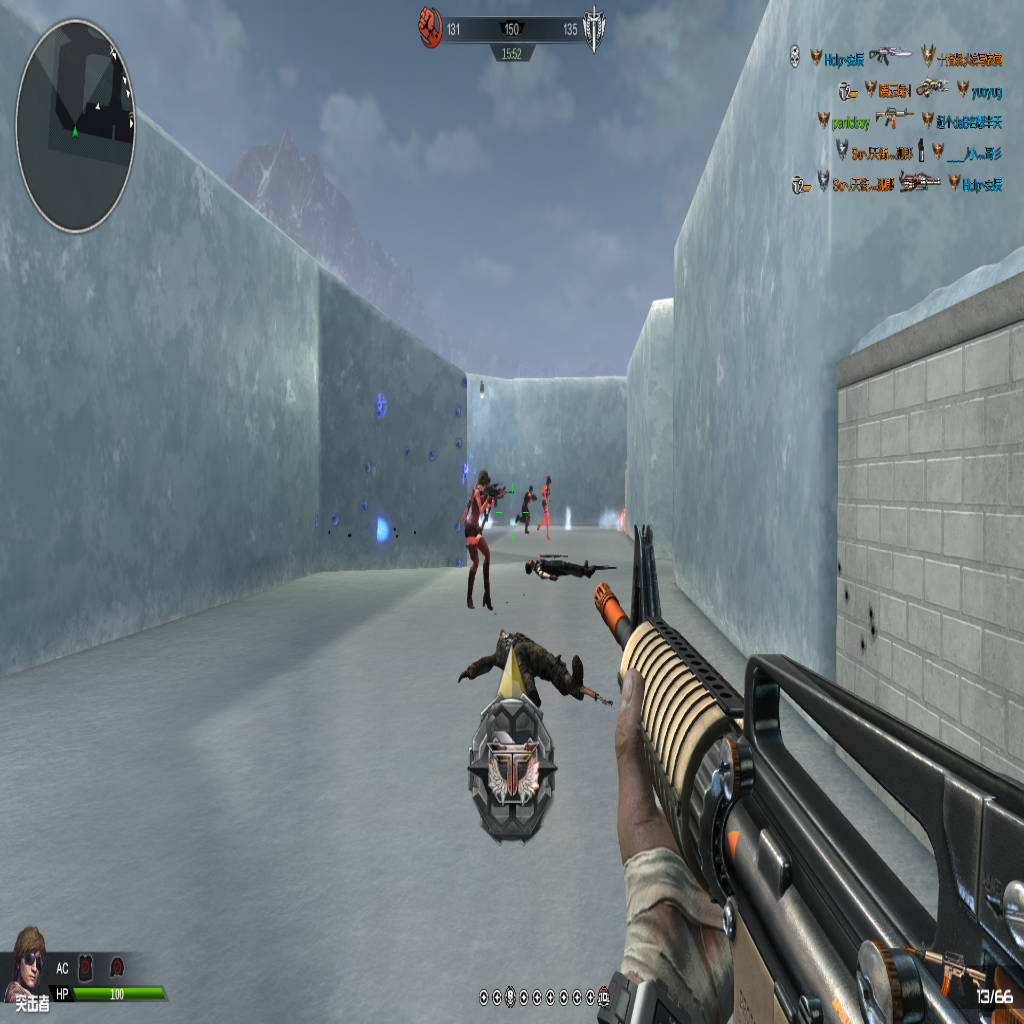ct: (461, 466, 503, 617), (539, 473, 553, 539)
